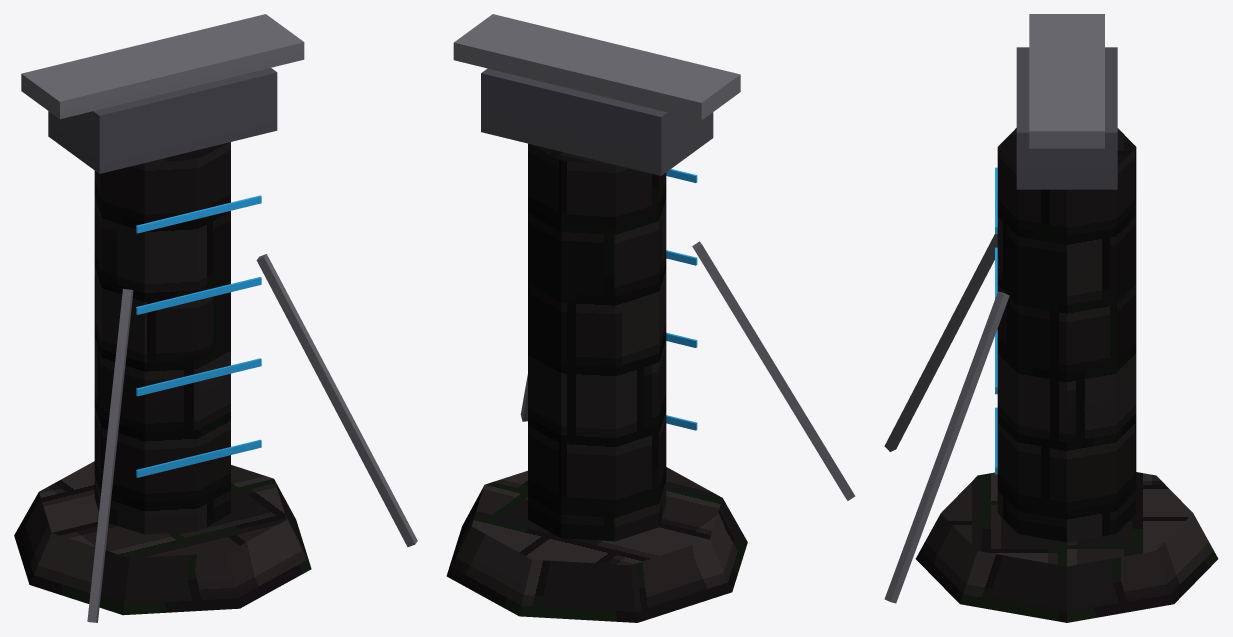
File: anvil_pillar.glb
3 renders of one model, left to right at view 1: azimuth 30°, elevation 25°; view 2: azimuth 150°, elevation 25°; view 3: azimuth 270°, elevation 25°, orthographic. The views are drawn at different scales.
Visible parts, largest first — view 1: anvil_pillar; view 2: anvil_pillar; view 3: anvil_pillar.
Boxes of the visible parts, left/top/right/bottom form: anvil_pillar: left=14, top=14, right=417, bottom=622; anvil_pillar: left=446, top=14, right=855, bottom=622; anvil_pillar: left=884, top=14, right=1218, bottom=622.
Size of the model in its own units: 2.97 by 4.25 by 2.65.
Materials: 3 (1 with a texture image).
